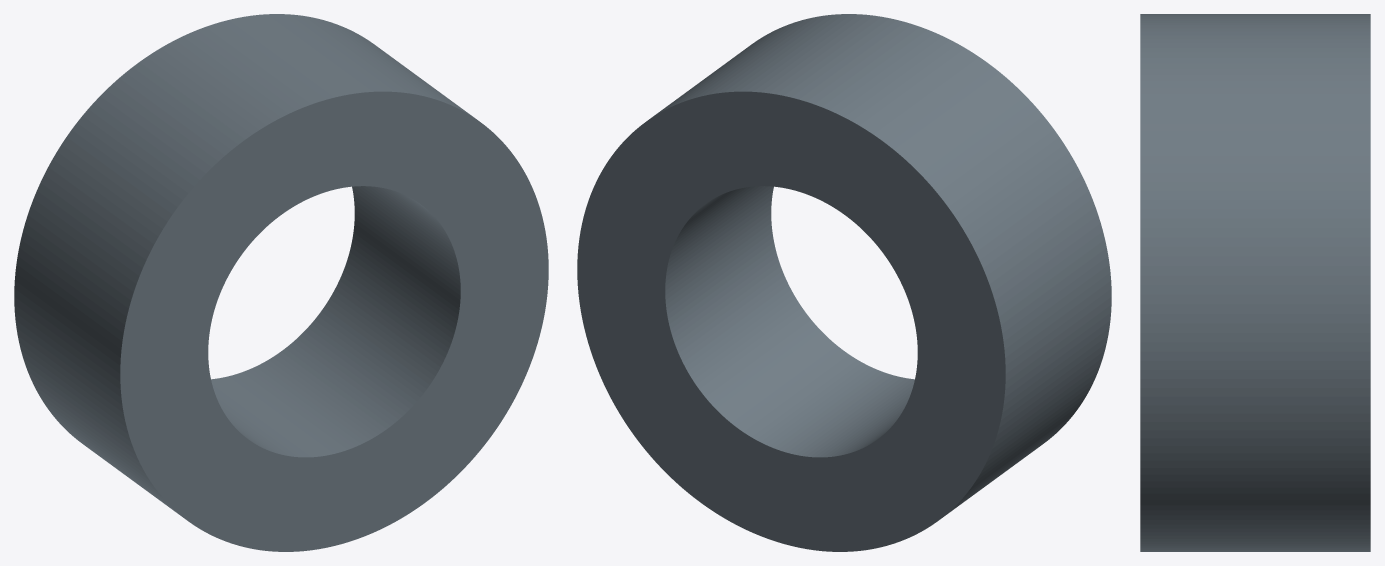
The model's file is 74887-spacer.glb.
3 views of the same model, side by side, from view 1: azimuth 30°, elevation 25°; view 2: azimuth 150°, elevation 25°; view 3: azimuth 270°, elevation 25° (orthographic). The views are drawn at different scales.
Parts seen in each view (by area): view 1: reference-spacer-74887; view 2: reference-spacer-74887; view 3: reference-spacer-74887.
Part boxes in pixels (x1,y1,x2,y2): reference-spacer-74887: (14,14,548,551); reference-spacer-74887: (577,14,1111,551); reference-spacer-74887: (1140,14,1370,551).
Bounding box in the file's own units: 0.0222 × 0.0222 × 0.00953.
